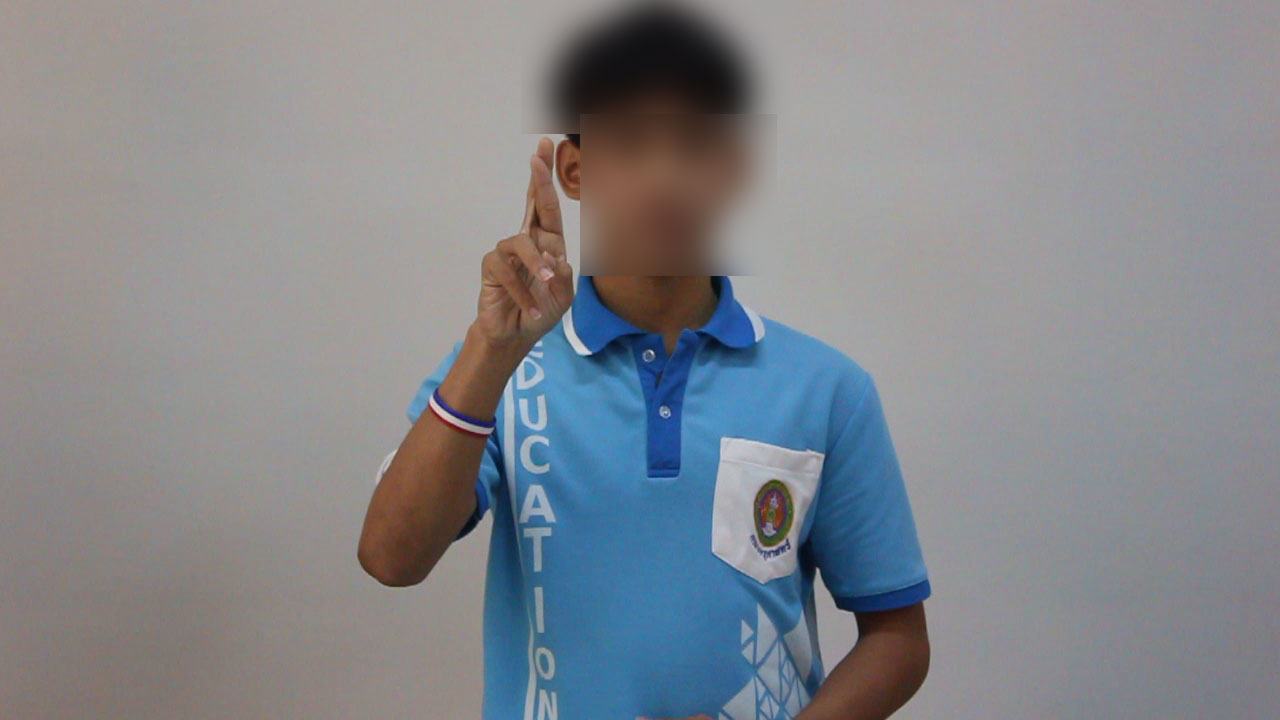rao: (448, 131, 580, 338)
